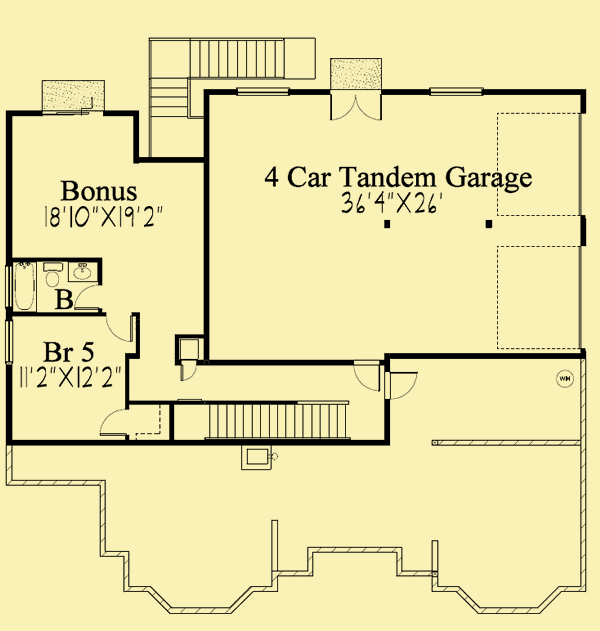door: (327, 88, 385, 124), (382, 370, 419, 403), (98, 404, 129, 438), (104, 311, 137, 342), (350, 359, 380, 393), (73, 283, 104, 312)
large_sink: (39, 263, 65, 292)
small_sink: (63, 261, 101, 286)
stairs: (144, 34, 301, 125), (202, 397, 351, 443)
tub: (11, 263, 38, 312)
window: (232, 84, 295, 100), (426, 83, 485, 99), (4, 318, 17, 367)
